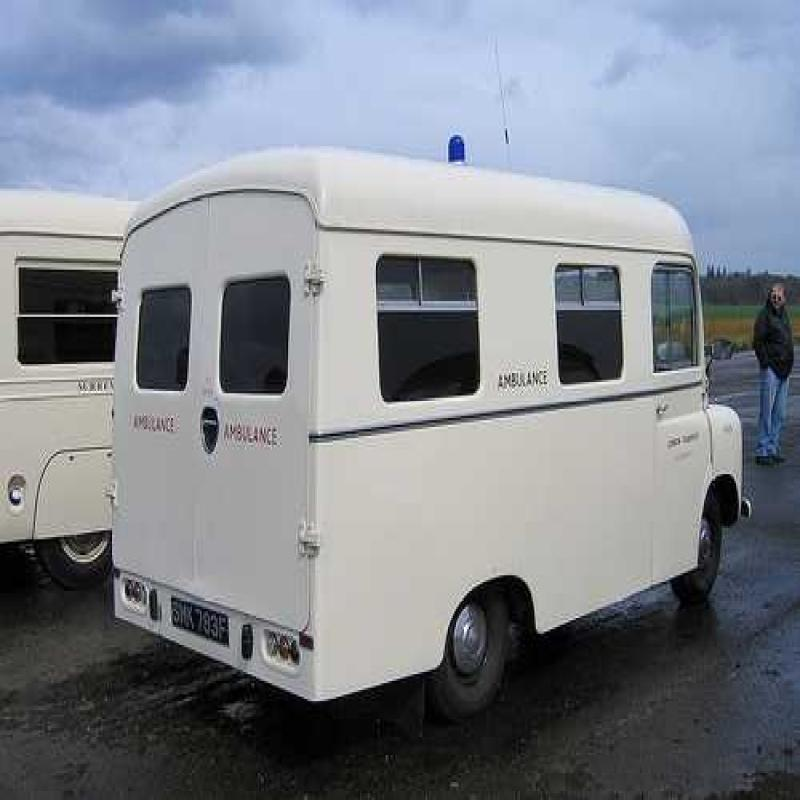AmbulanceSiren: (429, 123, 476, 178)
